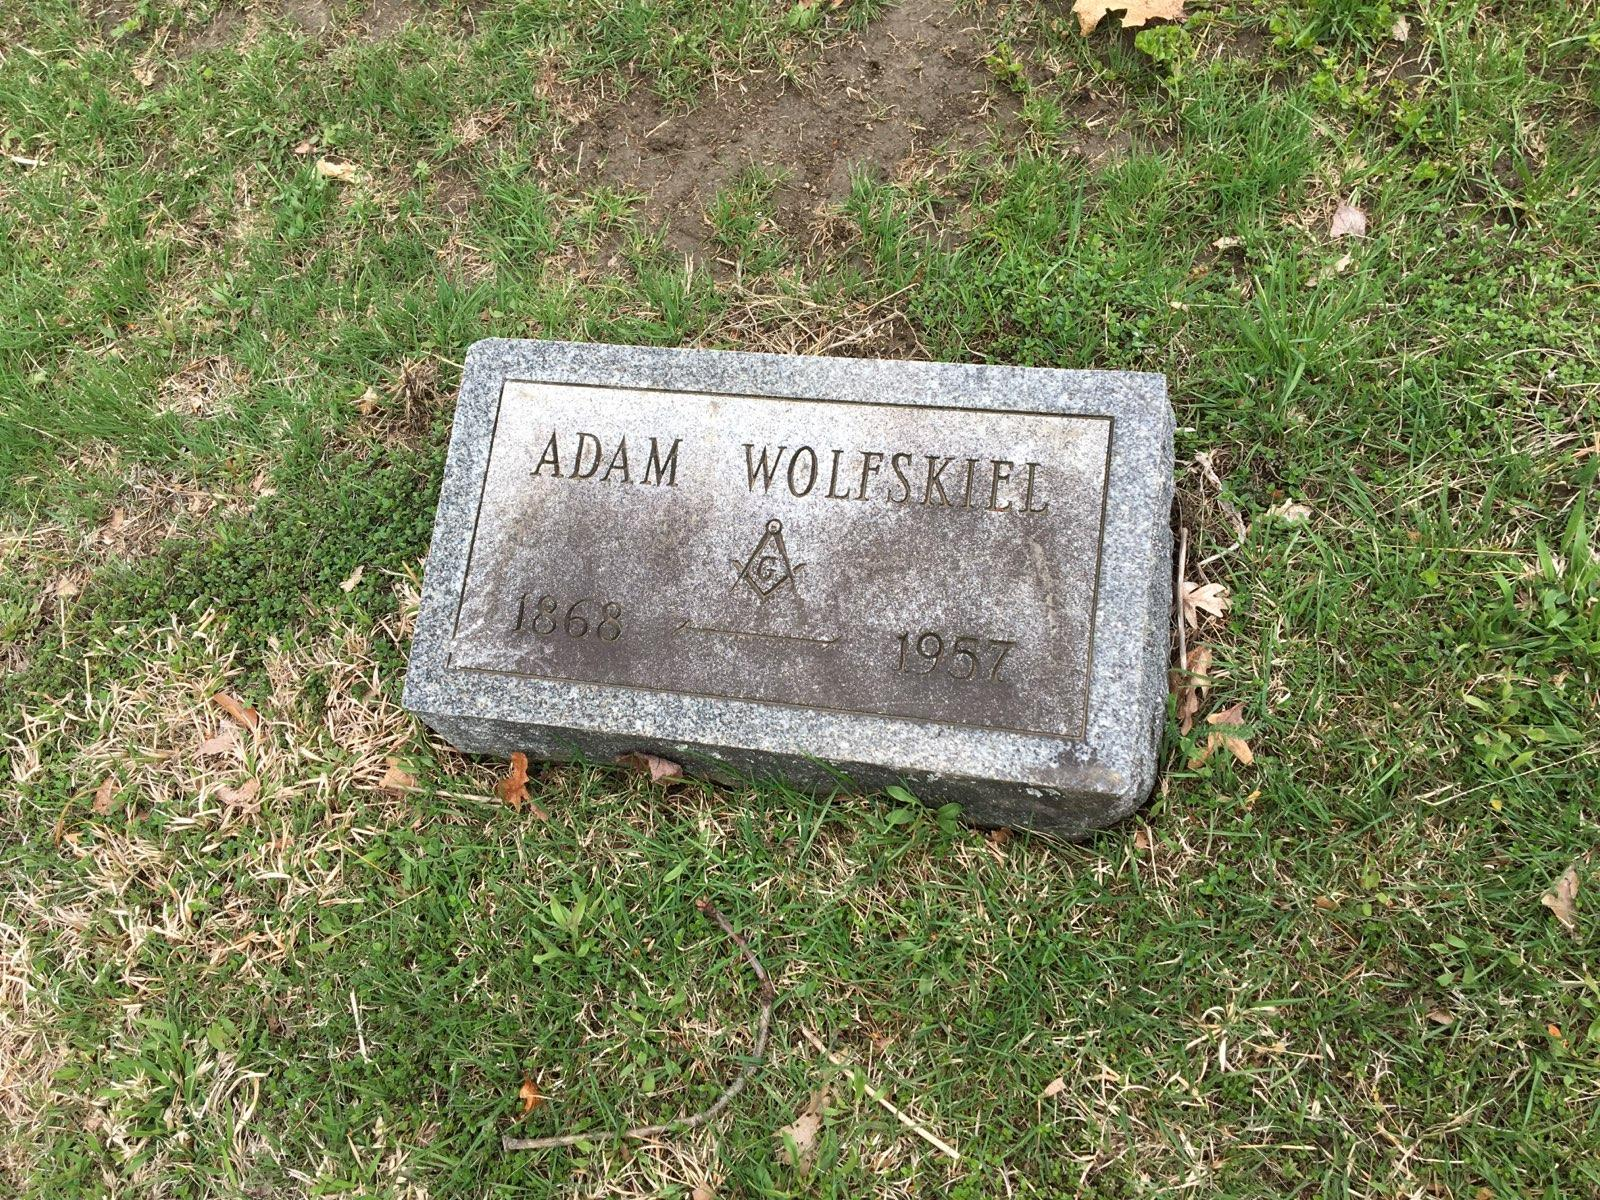flat: (401, 332, 1169, 824)
